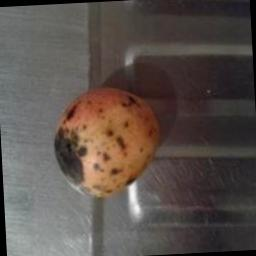Mango Rotten: (38, 84, 164, 207)
